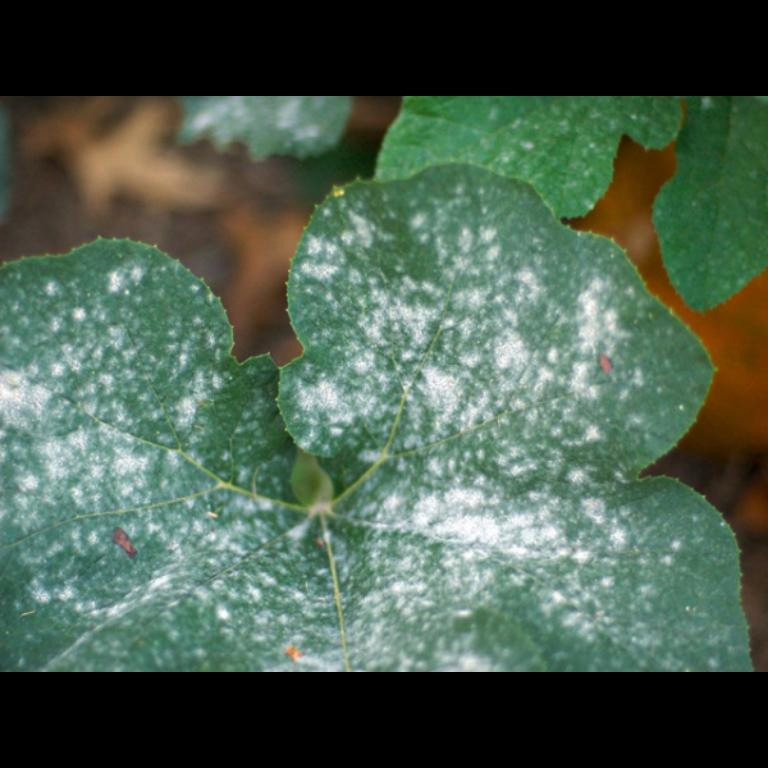powdery-mildew: (336, 236, 610, 450), (364, 484, 638, 636)
